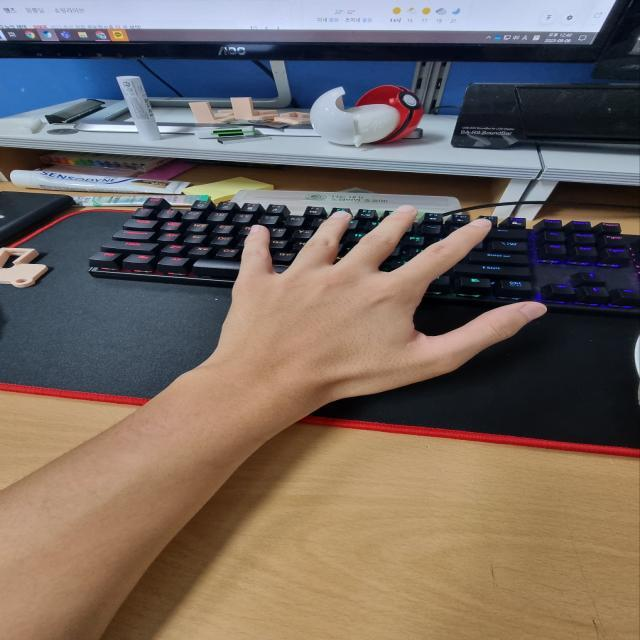keyboard-with-hands: (82, 197, 640, 313)
